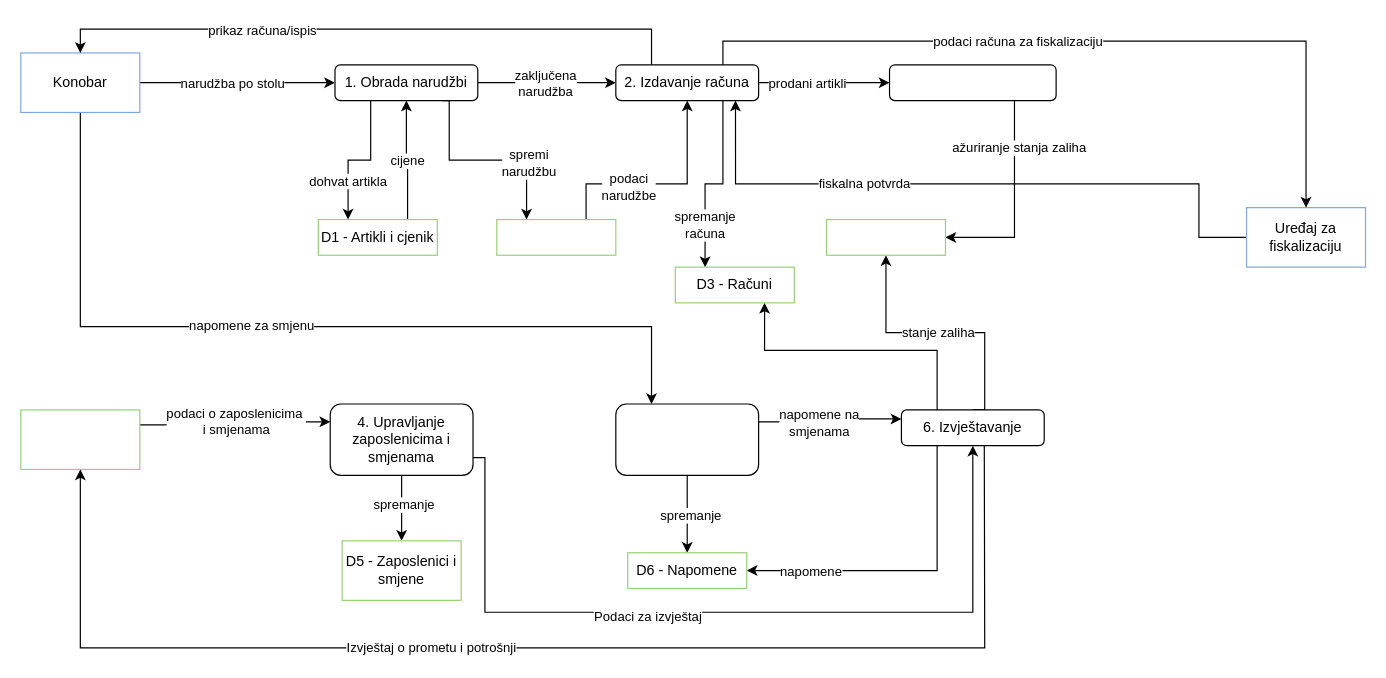
This 1386x678 diagram has some shape labels left out. Here are the shapes that lost their labels. From the top down, the centre of each, then its label:
pixel 972 82: 3. Upravljanje zalihama
pixel 556 236: D2 - Narudžbe
pixel 885 236: D4 - Zalihe
pixel 80 439: Administrator
pixel 687 439: 5. Upravljanje napomenama
